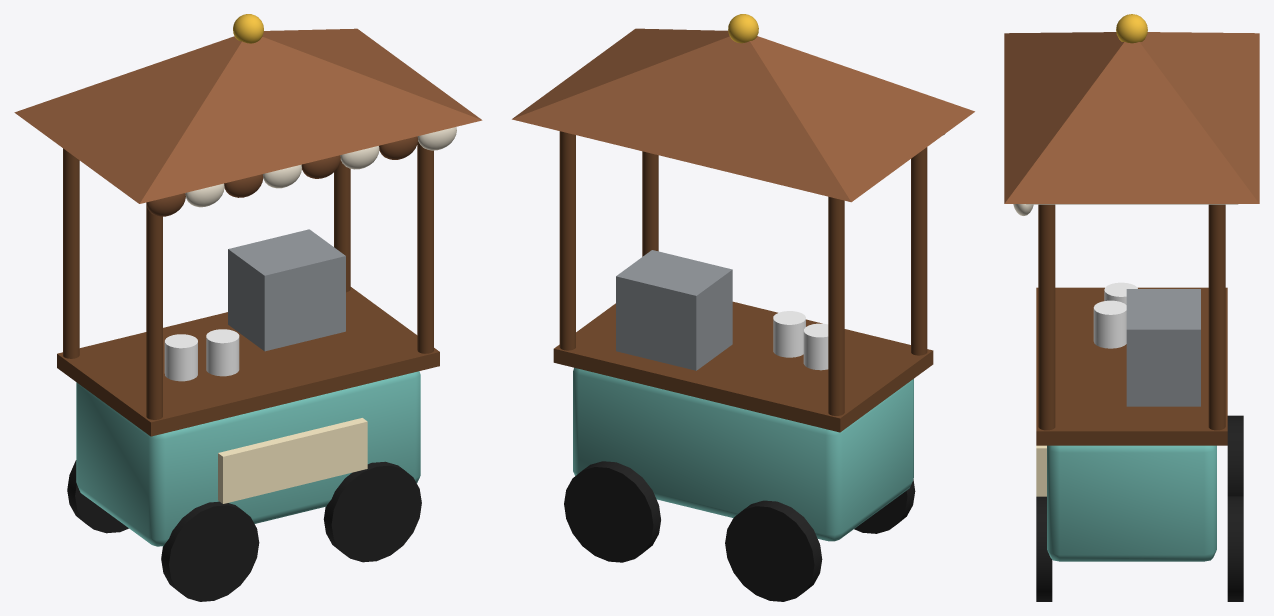
File: Cafe_L10.fbx
3 views of the same model, side by side, from view 1: azimuth 30°, elevation 25°; view 2: azimuth 150°, elevation 25°; view 3: azimuth 270°, elevation 25° (orthographic). The views are drawn at different scales.
Visible parts, largest first — view 1: C10_Roof, C10_Body, C10_Top, C10_Wheel (×3), C10_Post (×4), C10_Machine, C10_Sign, C10_AwningScallop (×8), C10_Cup1, C10_Cup2, C10_RoofTop; view 2: C10_Roof, C10_Body, C10_Top, C10_Wheel (×3), C10_Post (×4), C10_Machine, C10_Cup1, C10_Cup2, C10_RoofTop; view 3: C10_Roof, C10_Body, C10_Top, C10_Machine, C10_Post (×2), C10_Wheel (×3), C10_Cup1, C10_RoofTop, C10_Sign, C10_Cup2.
Boxes of the visible parts, x1=… form: C10_Roof: x1=14, y1=28, x2=482, y2=203; C10_Body: x1=76, y1=371, x2=420, y2=546; C10_Top: x1=57, y1=287, x2=439, y2=436; C10_Wheel (×3): x1=67, y1=460, x2=421, y2=601; C10_Post (×4): x1=63, y1=141, x2=433, y2=419; C10_Machine: x1=228, y1=229, x2=345, y2=351; C10_Sign: x1=218, y1=418, x2=367, y2=503; C10_AwningScallop (×8): x1=146, y1=127, x2=456, y2=216; C10_Cup1: x1=206, y1=329, x2=239, y2=376; C10_Cup2: x1=164, y1=334, x2=197, y2=381; C10_RoofTop: x1=233, y1=14, x2=263, y2=43; C10_Roof: x1=512, y1=28, x2=974, y2=202; C10_Body: x1=573, y1=367, x2=913, y2=541; C10_Top: x1=553, y1=301, x2=933, y2=432; C10_Wheel (×3): x1=564, y1=461, x2=915, y2=601; C10_Post (×4): x1=559, y1=131, x2=927, y2=415; C10_Machine: x1=616, y1=250, x2=732, y2=370; C10_Cup1: x1=773, y1=311, x2=805, y2=357; C10_Cup2: x1=803, y1=323, x2=828, y2=370; C10_RoofTop: x1=728, y1=14, x2=758, y2=43; C10_Roof: x1=1004, y1=32, x2=1259, y2=203; C10_Body: x1=1047, y1=445, x2=1216, y2=561; C10_Top: x1=1036, y1=287, x2=1227, y2=445; C10_Machine: x1=1126, y1=289, x2=1200, y2=406; C10_Post (×2): x1=1038, y1=204, x2=1225, y2=430; C10_Wheel (×3): x1=1036, y1=415, x2=1243, y2=601; C10_Cup1: x1=1093, y1=300, x2=1126, y2=348; C10_RoofTop: x1=1116, y1=14, x2=1147, y2=43; C10_Sign: x1=1036, y1=445, x2=1046, y2=496; C10_Cup2: x1=1104, y1=282, x2=1137, y2=304.
Bounding box in the file's own units: 38 × 56.2 × 24.
